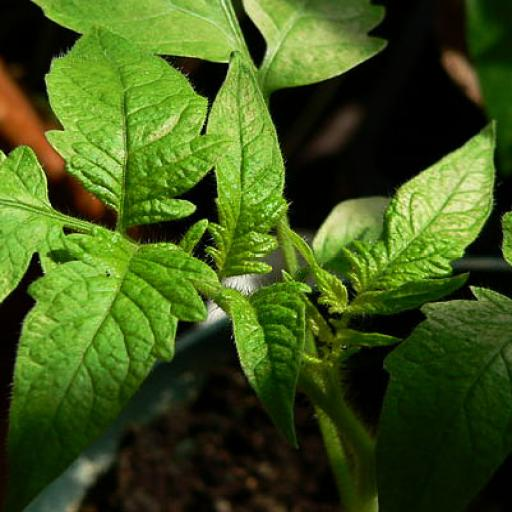Healthy: (0, 225, 223, 512), (44, 22, 232, 224), (342, 116, 498, 312), (204, 52, 292, 278), (224, 280, 305, 452)
